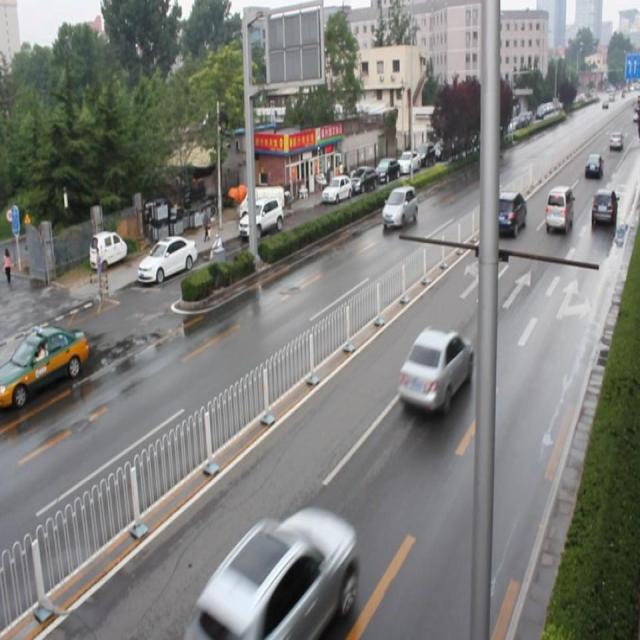car: (195, 504, 358, 630), (400, 330, 471, 413), (383, 184, 416, 230), (589, 190, 614, 226)
truck: (490, 189, 526, 235), (544, 188, 572, 232)
